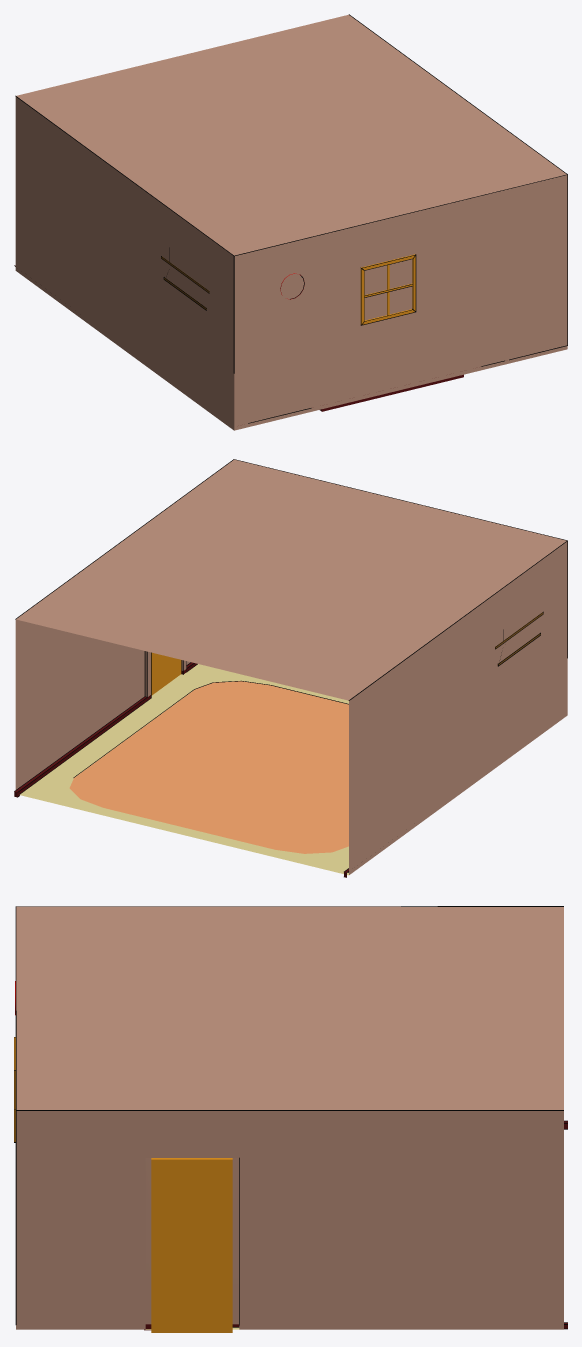
File: Living room.fbx
3 views of the same model, one above another, from view 1: azimuth 30°, elevation 25°; view 2: azimuth 150°, elevation 25°; view 3: azimuth 270°, elevation 25° (orthographic). The views are drawn at different scales.
Parts seen in each view (by area): view 1: Cube.024; view 2: Cube.024; view 3: Cube.024.
Boxes of the visible parts, x1,y1,x2,y2 form: Cube.024: (14,14,567,430); Cube.024: (14,459,567,877); Cube.024: (14,906,567,1332).
Bounding box in the file's own units: 5111 × 2604 × 5835.
